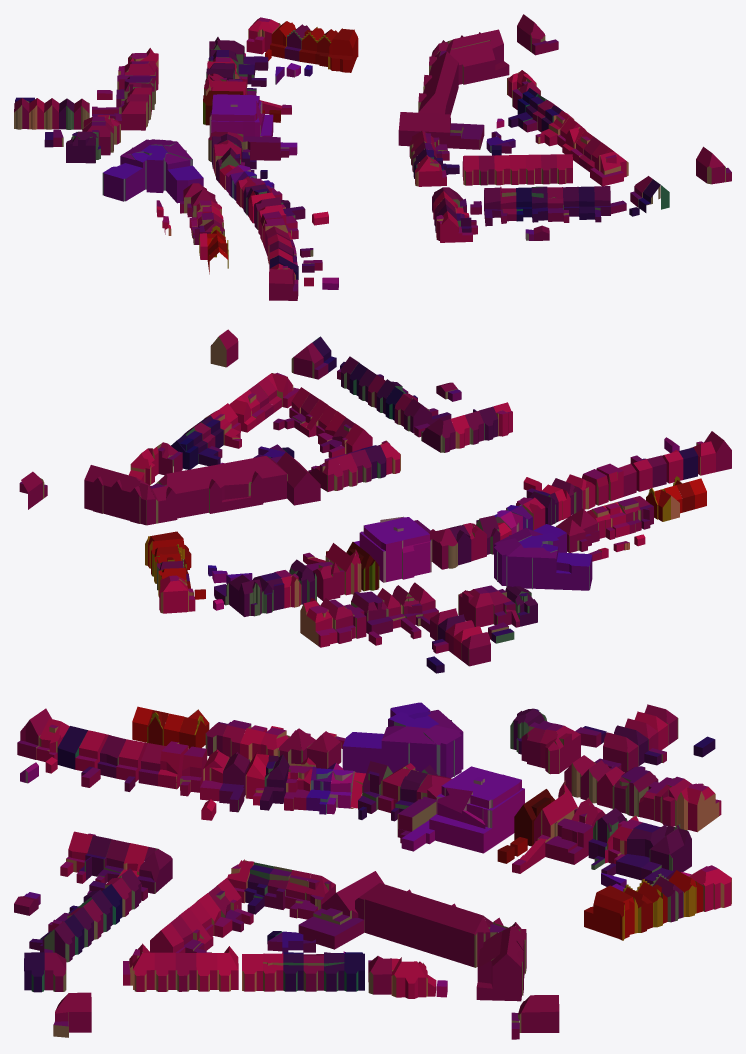
The model's file is buildings_8_12.glb.
3 renders of one model, top to bottom at view 1: azimuth 30°, elevation 25°; view 2: azimuth 150°, elevation 25°; view 3: azimuth 270°, elevation 25°, orthographic. The views are drawn at different scales.
Visible parts, largest first — view 1: buildings_8_12; view 2: buildings_8_12; view 3: buildings_8_12.
Boxes of the visible parts, x1,y1,x2,y2 form: buildings_8_12: (14,14,731,300); buildings_8_12: (19,329,731,673); buildings_8_12: (14,702,731,1039).
Size of the model in its own units: 209 by 16.43 by 205.
